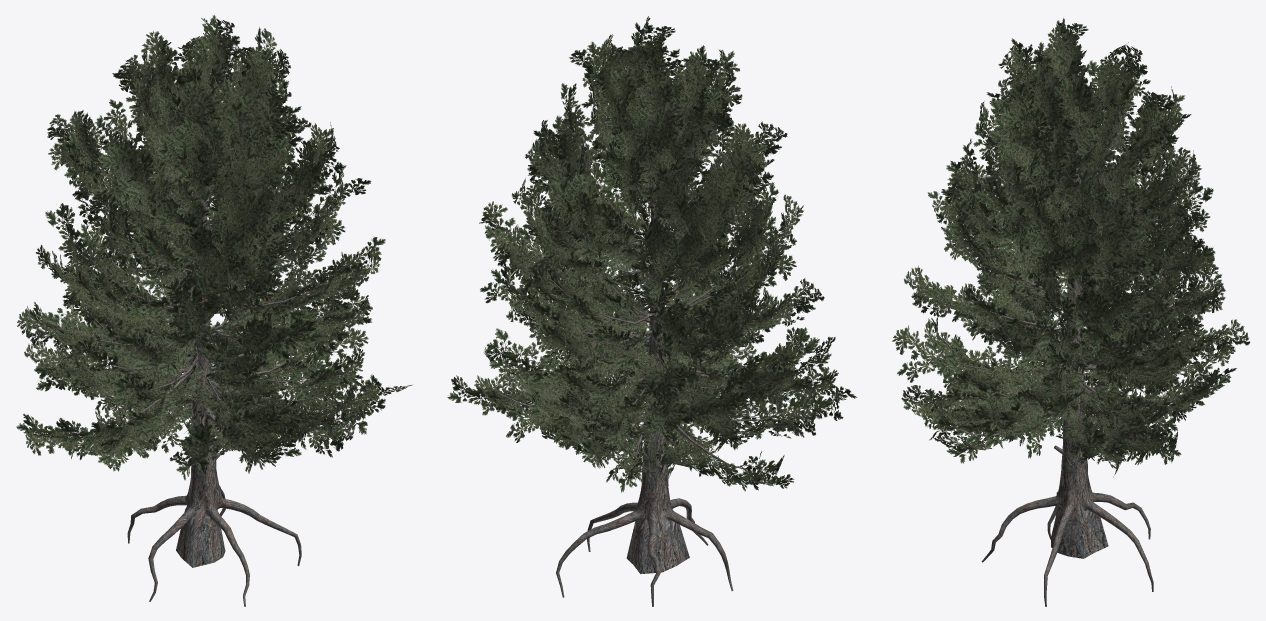
File: cedre-1.glb
3 renders of one model, left to right at view 1: azimuth 30°, elevation 25°; view 2: azimuth 150°, elevation 25°; view 3: azimuth 270°, elevation 25°, orthographic. The views are drawn at different scales.
Parts seen in each view (by area): view 1: Cedar_LOD0; view 2: Cedar_LOD0; view 3: Cedar_LOD0.
Part boxes in pixels (x1,y1,x2,y2): Cedar_LOD0: (16,15,412,606); Cedar_LOD0: (447,16,857,606); Cedar_LOD0: (892,18,1250,606).
Size of the model in its own units: 11.03 by 17.44 by 10.46.
Materials: 2 (2 with a texture image).
